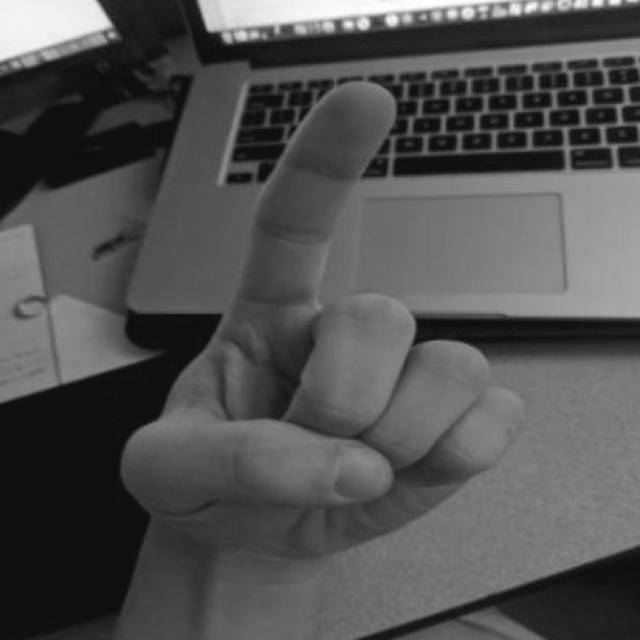D: (80, 66, 534, 624)
